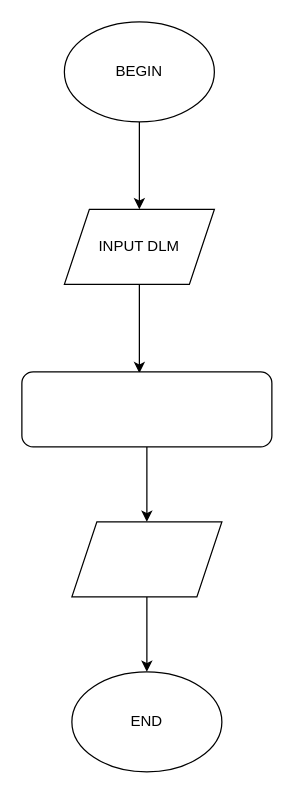
Image size: 294x794. Some labels were removed from this diagram. The shapes that lost their labels are listed below. From the top down, each one's centre as x and y in pixels, then its label:
At (146,409): "VND = DLM * 23000".
At (146,559): "DISPLAY VND".
